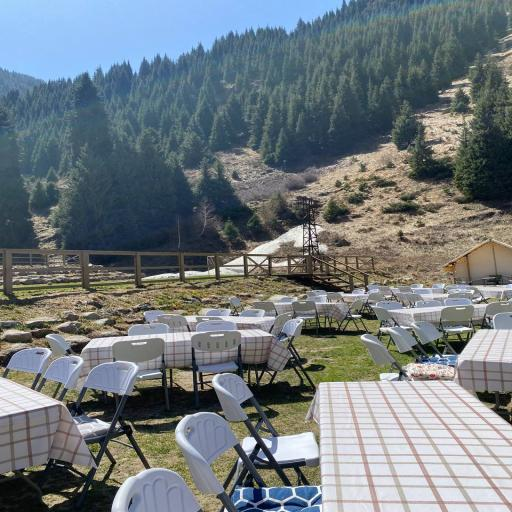bottle: (338, 299, 368, 332), (292, 300, 319, 334)
phone: (306, 381, 512, 512), (79, 329, 290, 385), (453, 329, 512, 392)
